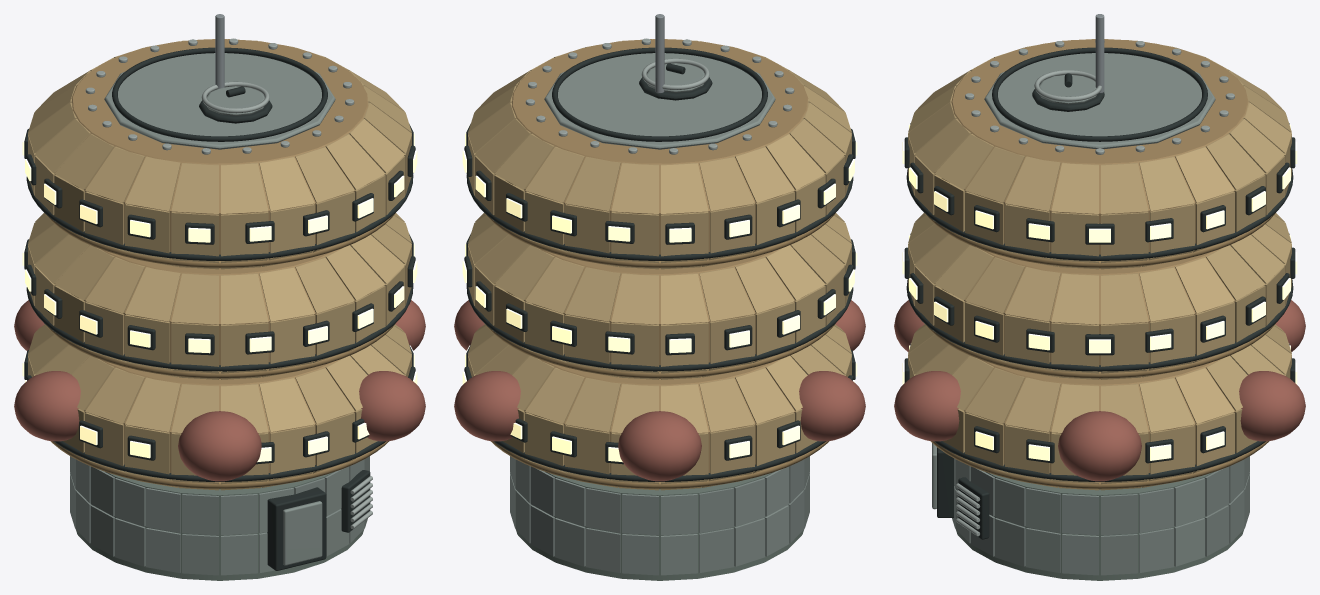
3 renders of one model, left to right at view 1: azimuth 30°, elevation 25°; view 2: azimuth 150°, elevation 25°; view 3: azimuth 270°, elevation 25°, orthographic.
Visible parts, largest first — view 1: Individual curved habitation plates.002, Individual curved habitation plates.001, Individual curved habitation plates, Segmented habitation base, Roof maintenance deck, Stacked residential saucer.002, Defence side pod.004, Defence side pod.003, Defence side pod.005, Foundation drum, Roof aerial mounting track, Stacked residential saucer.001 (+16 smaller); view 2: Individual curved habitation plates.002, Individual curved habitation plates.001, Individual curved habitation plates, Segmented habitation base, Roof maintenance deck, Stacked residential saucer.002, Defence side pod.002, Defence side pod.003, Defence side pod.001, Foundation drum, Roof aerial mounting track, Stacked residential saucer.001 (+13 smaller); view 3: Individual curved habitation plates.002, Individual curved habitation plates.001, Individual curved habitation plates, Segmented habitation base, Roof maintenance deck, Stacked residential saucer.002, Defence side pod, Defence side pod.001, Defence side pod.005, Foundation drum, Roof aerial mounting track, Dark expansion joint.001 (+15 smaller).
Boxes of the visible parts, left/top/right/bottom form: Individual curved habitation plates.002: left=28, top=39, right=411, bottom=269; Individual curved habitation plates.001: left=28, top=213, right=411, bottom=379; Individual curved habitation plates: left=28, top=324, right=411, bottom=490; Segmented habitation base: left=70, top=456, right=369, bottom=575; Roof maintenance deck: left=104, top=53, right=335, bottom=149; Stacked residential saucer.002: left=54, top=39, right=385, bottom=268; Defence side pod.004: left=178, top=411, right=261, bottom=481; Defence side pod.003: left=14, top=371, right=80, bottom=441; Defence side pod.005: left=359, top=371, right=425, bottom=441; Foundation drum: left=76, top=472, right=363, bottom=580; Roof aerial mounting track: left=112, top=47, right=327, bottom=141; Stacked residential saucer.001: left=54, top=245, right=385, bottom=378; Individual curved habitation plates.002: left=468, top=39, right=851, bottom=269; Individual curved habitation plates.001: left=468, top=213, right=851, bottom=379; Individual curved habitation plates: left=468, top=324, right=851, bottom=490; Segmented habitation base: left=510, top=456, right=809, bottom=575; Roof maintenance deck: left=544, top=53, right=775, bottom=149; Stacked residential saucer.002: left=494, top=39, right=825, bottom=268; Defence side pod.002: left=618, top=411, right=701, bottom=481; Defence side pod.003: left=799, top=371, right=865, bottom=441; Defence side pod.001: left=454, top=371, right=520, bottom=441; Foundation drum: left=516, top=472, right=803, bottom=580; Roof aerial mounting track: left=552, top=47, right=767, bottom=141; Stacked residential saucer.001: left=494, top=245, right=825, bottom=378; Individual curved habitation plates.002: left=908, top=39, right=1291, bottom=269; Individual curved habitation plates.001: left=908, top=213, right=1291, bottom=379; Individual curved habitation plates: left=908, top=324, right=1291, bottom=490; Segmented habitation base: left=952, top=456, right=1249, bottom=575; Roof maintenance deck: left=984, top=53, right=1215, bottom=149; Stacked residential saucer.002: left=934, top=39, right=1265, bottom=268; Defence side pod: left=1058, top=411, right=1141, bottom=481; Defence side pod.001: left=1239, top=371, right=1305, bottom=441; Defence side pod.005: left=894, top=371, right=960, bottom=441; Foundation drum: left=956, top=472, right=1243, bottom=580; Roof aerial mounting track: left=992, top=47, right=1207, bottom=141; Dark expansion joint.001: left=906, top=279, right=1293, bottom=371.
Bounding box in the file's own units: 2.2 × 2.64 × 1.96.
